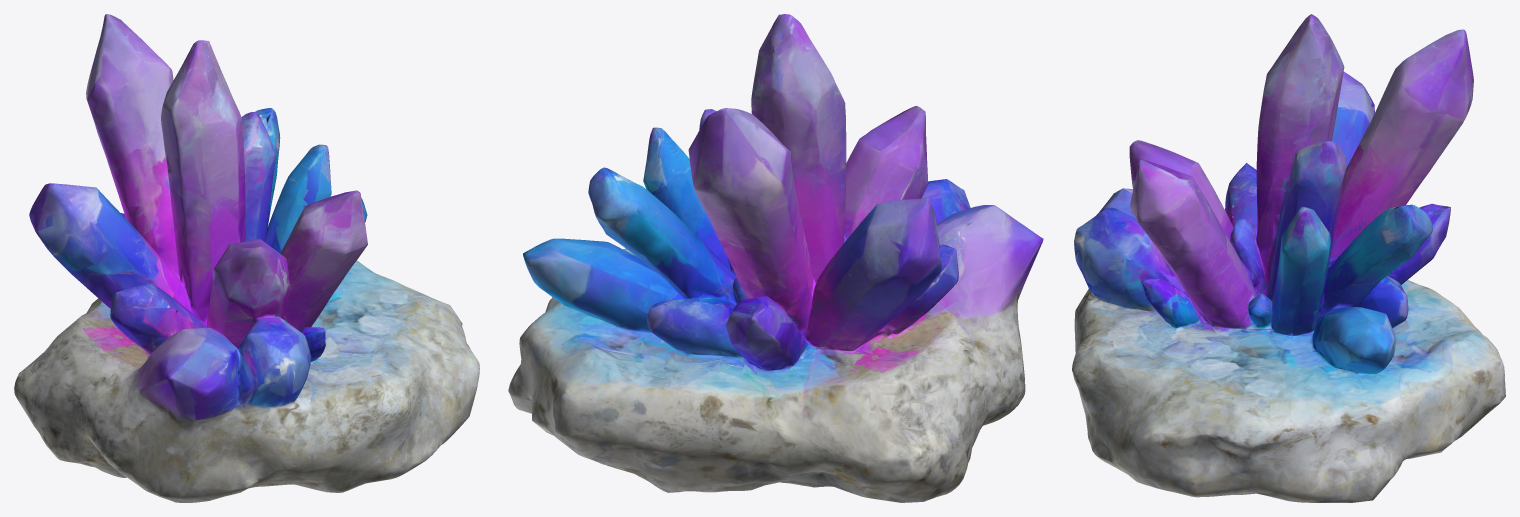
File: artistic_abstract_cry.glb
3 renders of one model, left to right at view 1: azimuth 30°, elevation 25°; view 2: azimuth 150°, elevation 25°; view 3: azimuth 270°, elevation 25°, orthographic. The views are drawn at different scales.
Visible parts, largest first — view 1: artistic_abstract_cry; view 2: artistic_abstract_cry; view 3: artistic_abstract_cry.
Part boxes in pixels (left/top/right/bottom): artistic_abstract_cry: left=14, top=14, right=479, bottom=502; artistic_abstract_cry: left=508, top=14, right=1043, bottom=502; artistic_abstract_cry: left=1072, top=14, right=1505, bottom=502.
Bounding box in the file's own units: 1.92 × 2 × 1.86.
1 material, 1 textured.
